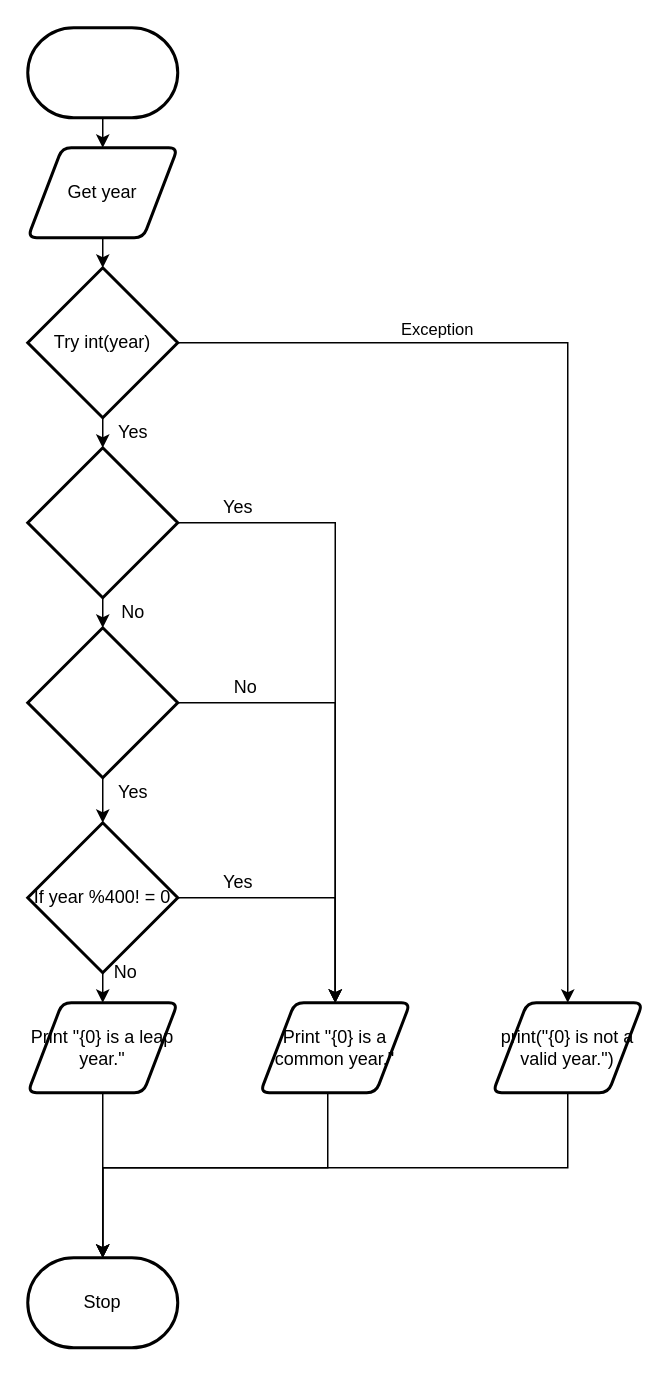
Image size: 669x1374. Some labels were removed from this diagram. The shapes that lost their labels are listed below. From the top down, each one's box as (x1, y1, x2, y2) in pixels, then its label:
(26, 26, 178, 118): Start
(26, 446, 178, 598): If year %4 != 0
(26, 626, 178, 778): If year %100 != 0
